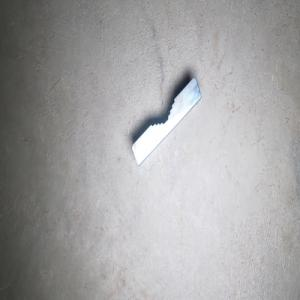ClampPart: (130, 76, 202, 167)
